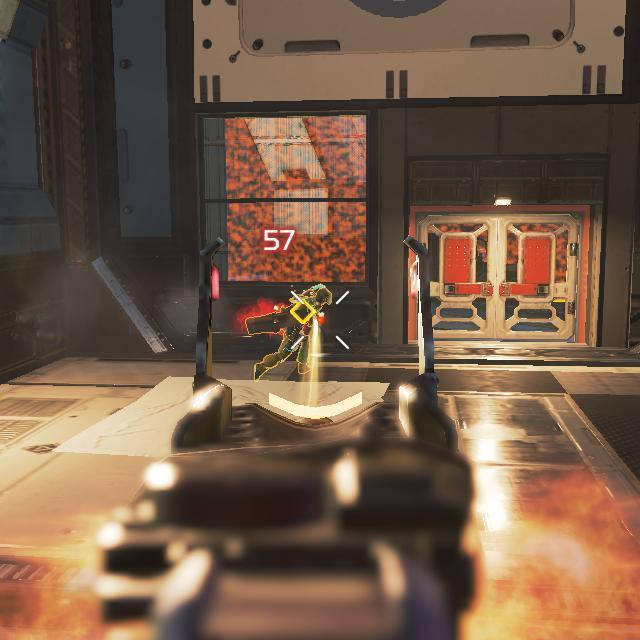avatar: (278, 282, 333, 376)
object: (288, 296, 318, 327)
